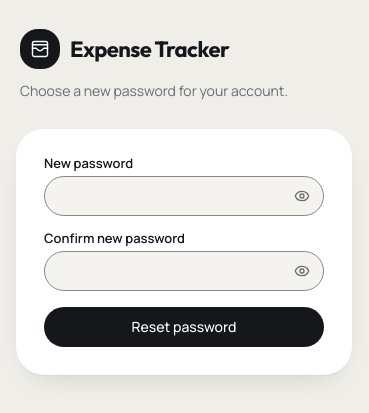
Test: ResetPasswordPage › does not submit mismatched passwords
In the password field labelled "New password": (184, 196) [44,176,324,216], type "new-password"
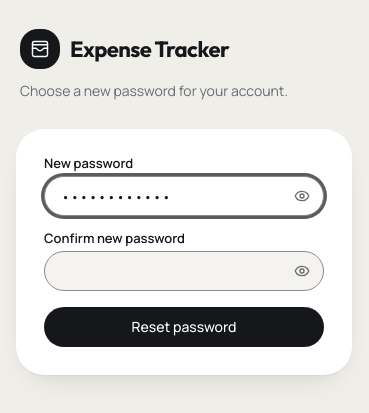
In the password field labelled "Confirm new password": (184, 271) [44,251,324,291], type "different-password"
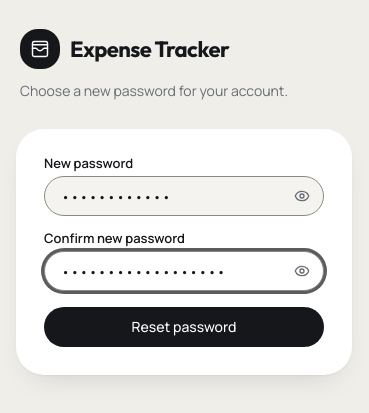
Click the button "Reset password": (184, 327) [44,307,324,347]
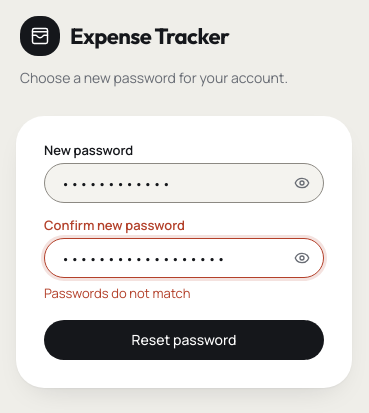
Expected: the text "Passwords do not match" is shown, [44,284,190,302]
